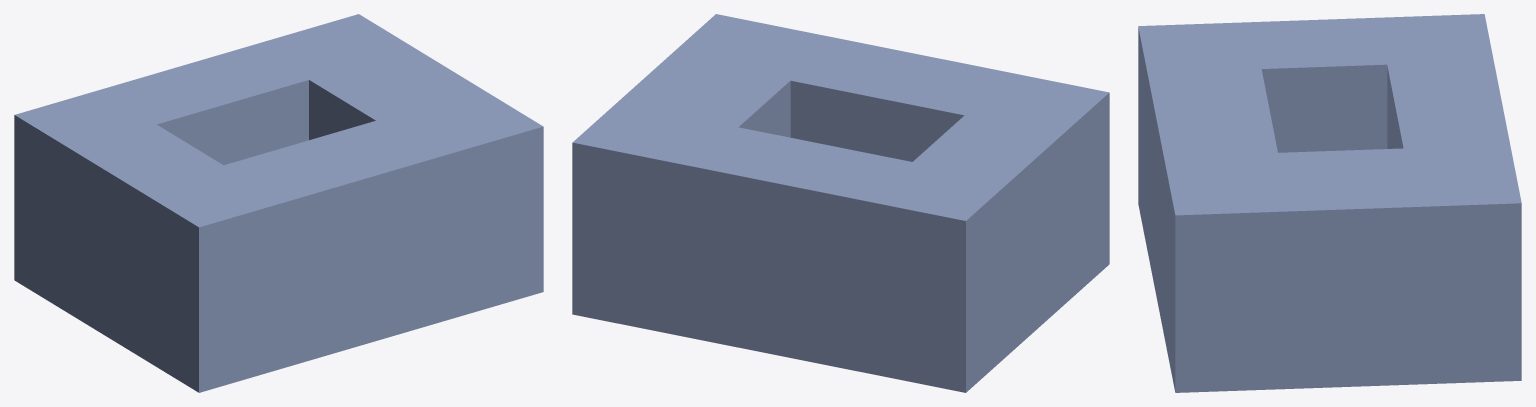
File: ChestnutExterior.gltf
3 renders of one model, left to right at view 1: azimuth 30°, elevation 25°; view 2: azimuth 150°, elevation 25°; view 3: azimuth 270°, elevation 25°, orthographic. The views are drawn at different scales.
Size of the model in its own units: 72.99 by 30 by 58.73.
